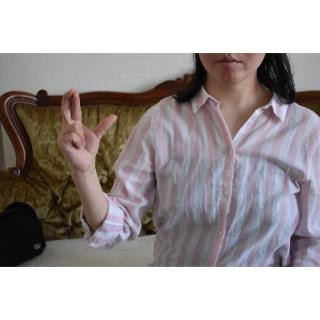DHELL: (54, 84, 124, 177)
